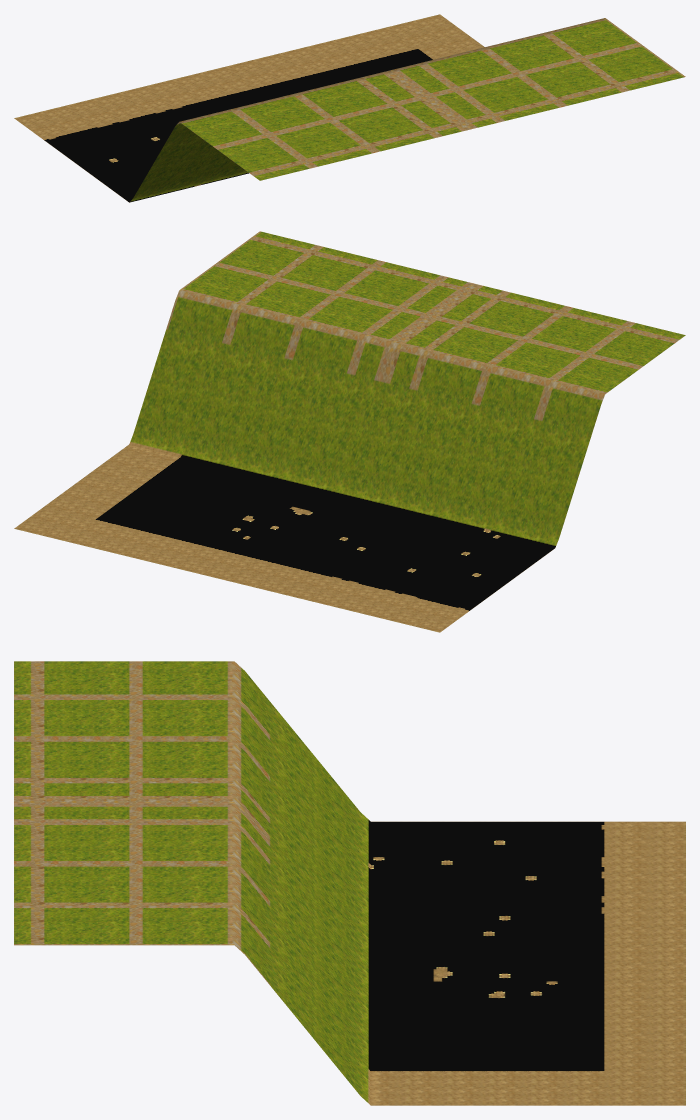
Rendered from terrain.glb.
3 renders of one model, top to bottom at view 1: azimuth 30°, elevation 25°; view 2: azimuth 150°, elevation 25°; view 3: azimuth 270°, elevation 25°, orthographic. The views are drawn at different scales.
Parts seen in each view (by area): view 1: terrain_4_5; view 2: terrain_4_5; view 3: terrain_4_5.
Boxes of the visible parts, bbox=[...] form: terrain_4_5: bbox=[14, 14, 685, 202]; terrain_4_5: bbox=[14, 231, 685, 632]; terrain_4_5: bbox=[14, 661, 685, 1105].
Size of the model in its own units: 512 by 135 by 512.
Materials: 1 (1 with a texture image).
